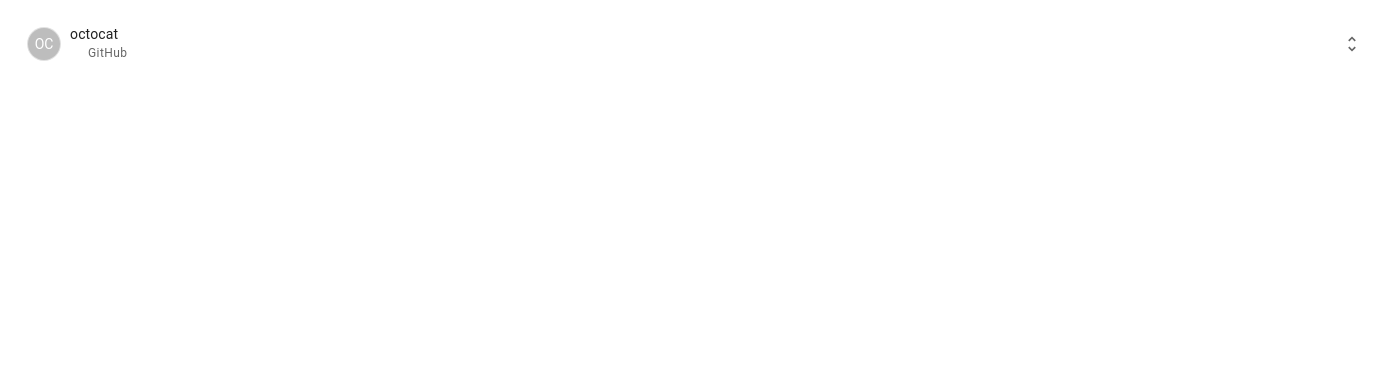
Account › the theme parts name the chosen one and a click chooses another
Click the button "OC octocat GitHub": x=44, y=44 [12,12,1378,76]
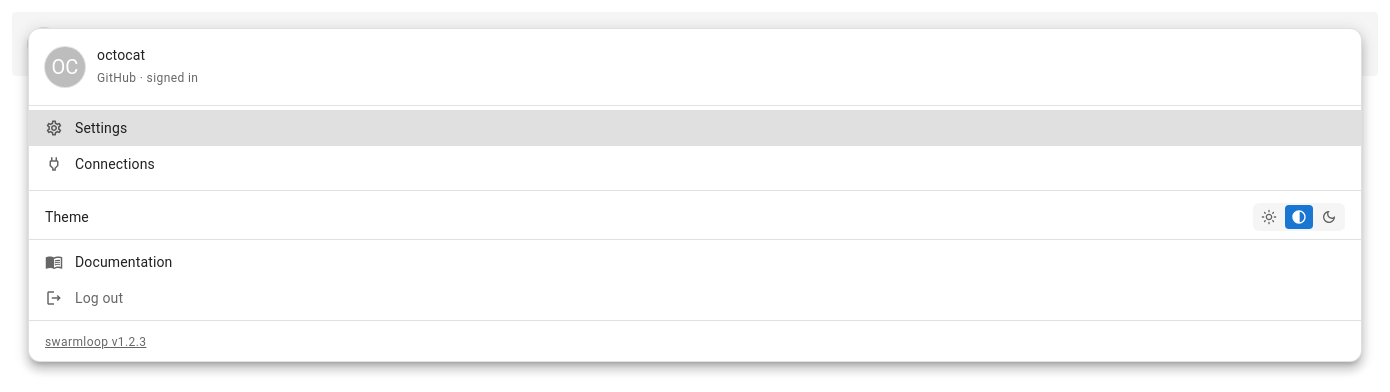
Click the menu item named "Dark": x=1329, y=217 [1315,205,1343,229]
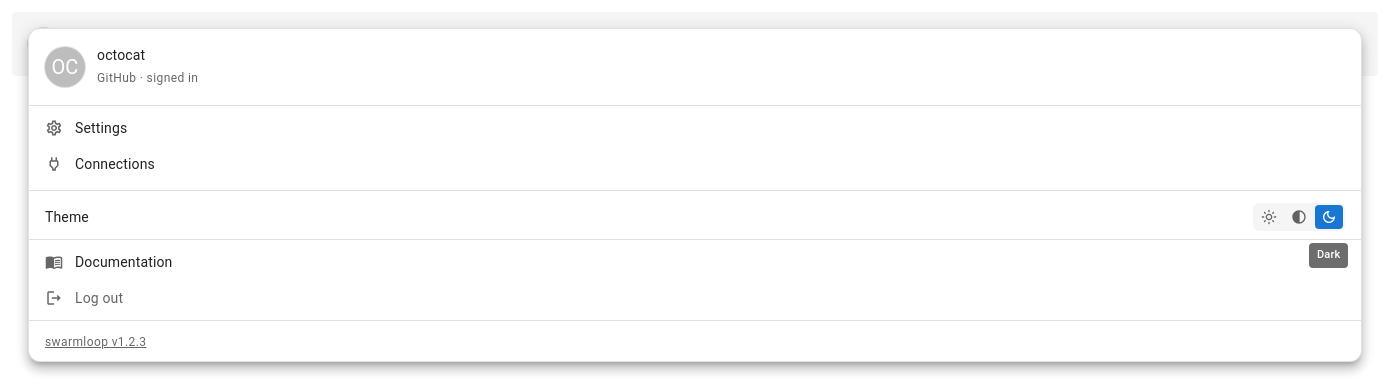
Expected: the menu item named "Dark" is checked, [1315,205,1343,229]
